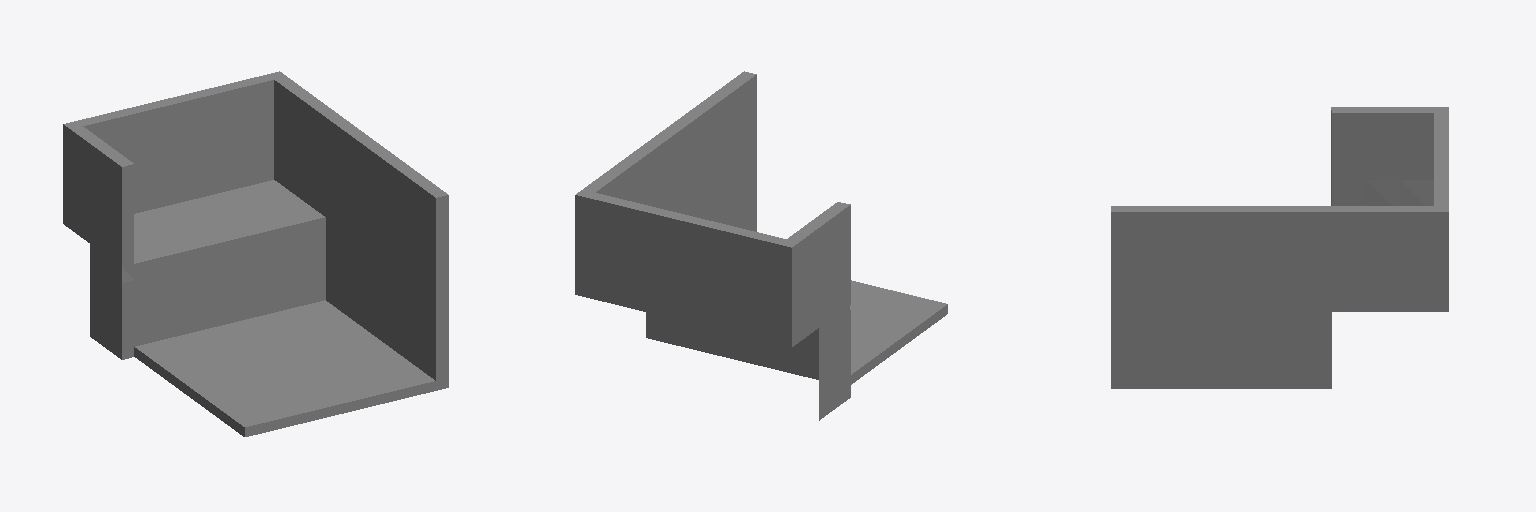
The model's file is room.obj.
3 renders of one model, left to right at view 1: azimuth 30°, elevation 25°; view 2: azimuth 150°, elevation 25°; view 3: azimuth 270°, elevation 25°, orthographic.
Visible parts, largest first — view 1: house; view 2: house; view 3: house.
Boxes of the visible parts, x1,y1,x2,y2 form: house: [63, 71, 448, 436]; house: [575, 71, 947, 420]; house: [1111, 107, 1448, 388].
Bounding box in the file's own units: 11.33 × 9.65 × 15.29.